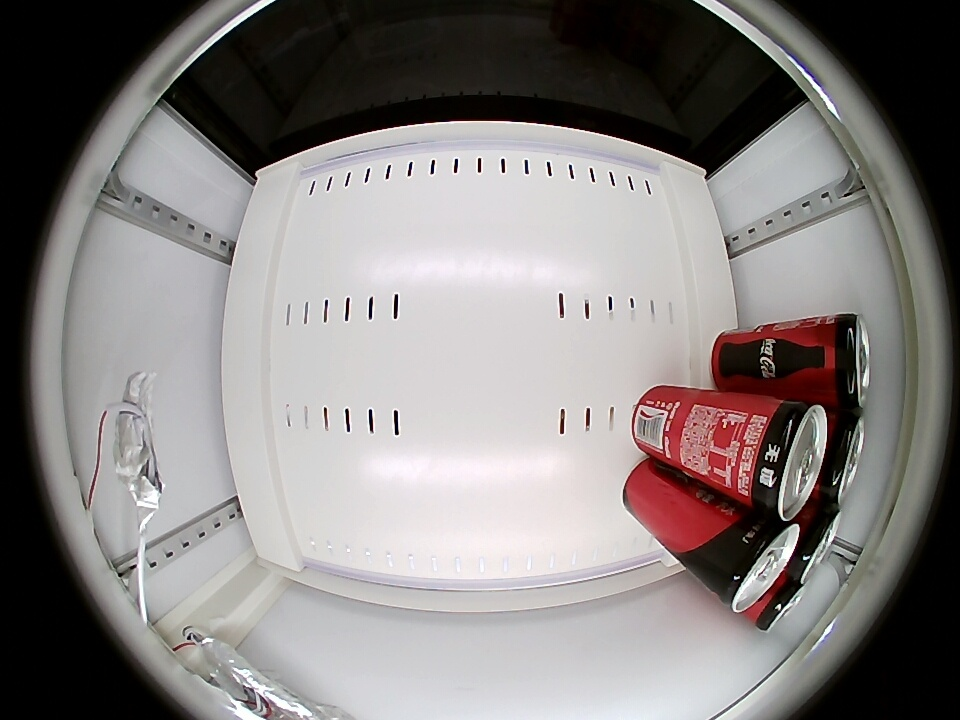lingdukele: (735, 396, 828, 522), (714, 514, 800, 613), (808, 313, 870, 409), (814, 409, 865, 506), (787, 504, 842, 584), (752, 575, 810, 633)
